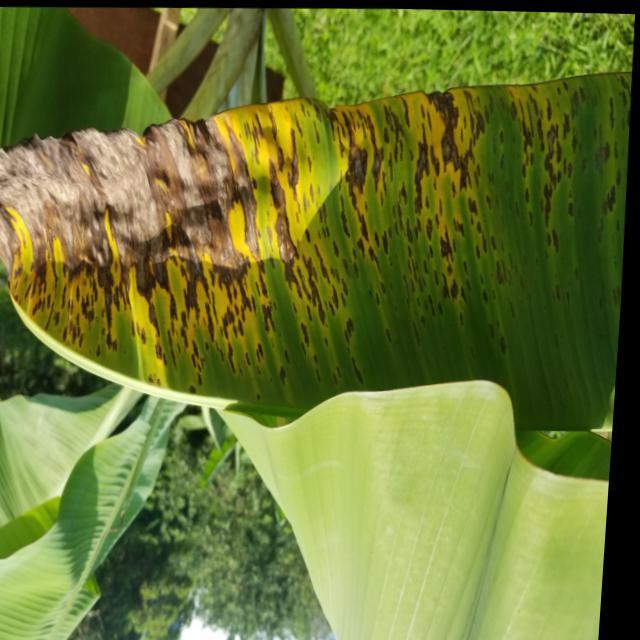Early_rust: (0, 63, 640, 439)
